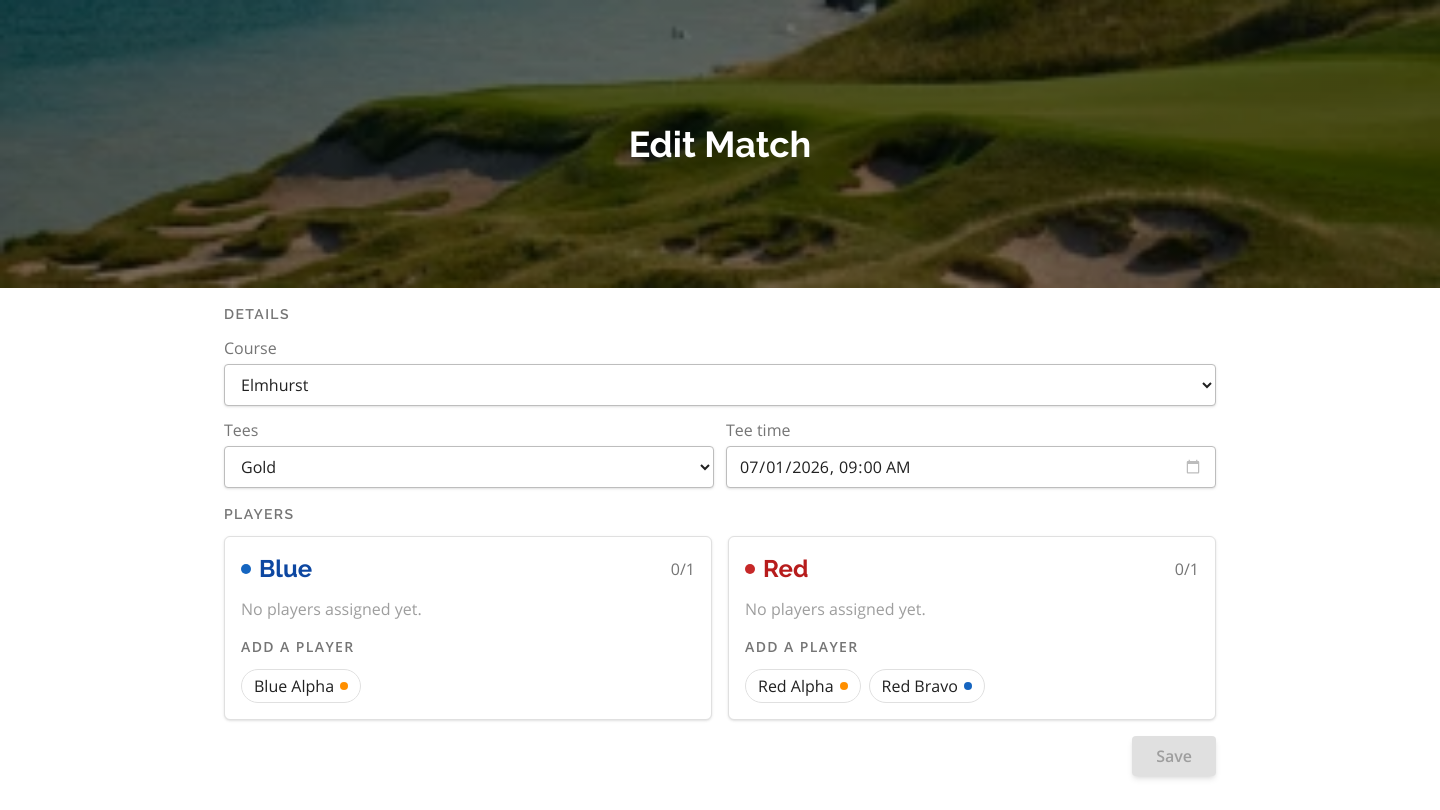
Scenario: AdminMatchLineupView › will not save around a course whose tees are unknown
The width and height of the screenshot is (1440, 810).
Replace the text in the field with id "tee-time" with "2026-07-01T09:30" at (971, 467), box [726,446,1216,488]
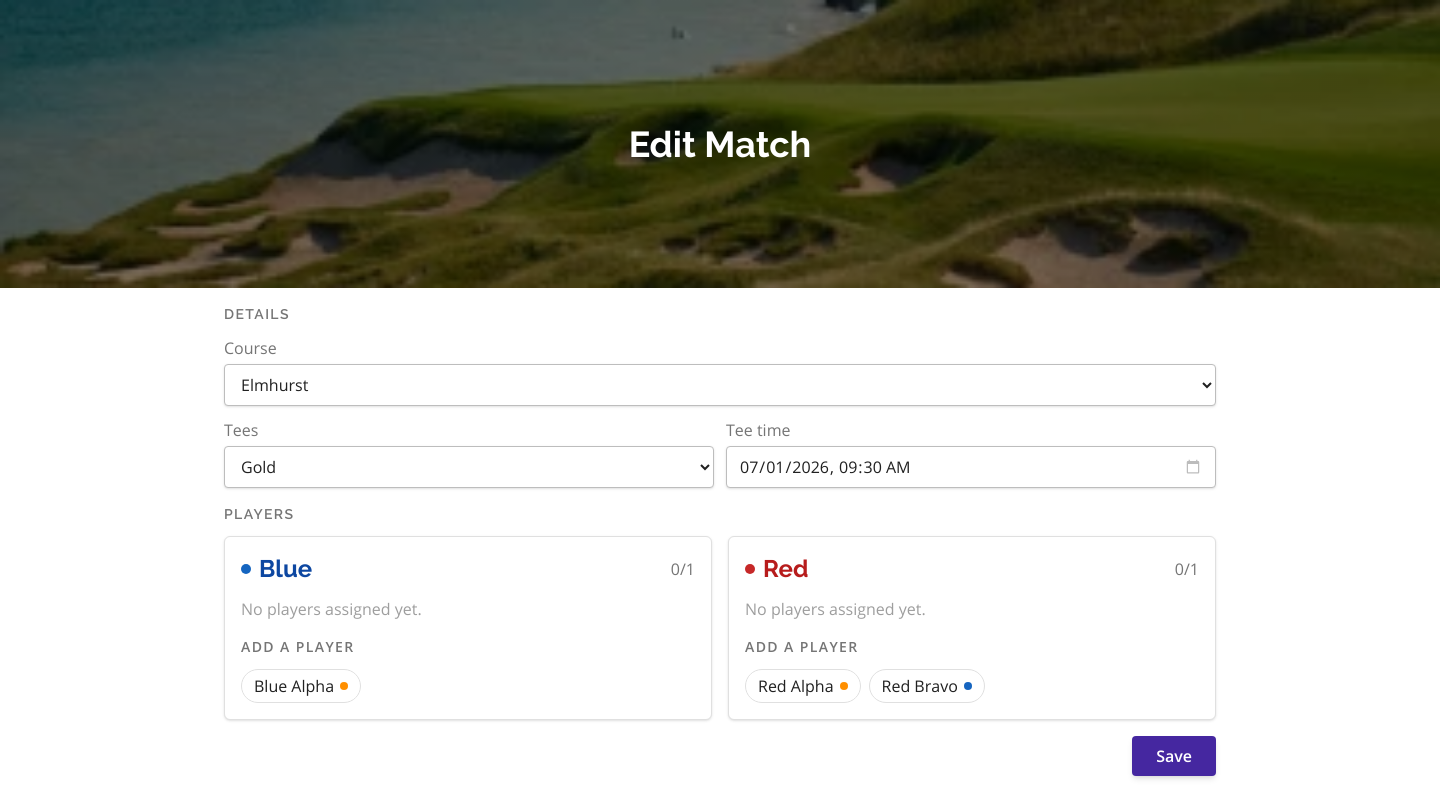
Select "Banff Springs" in the dropdown with id "course" at (720, 385), box [224,364,1216,406]
(page scrolled)
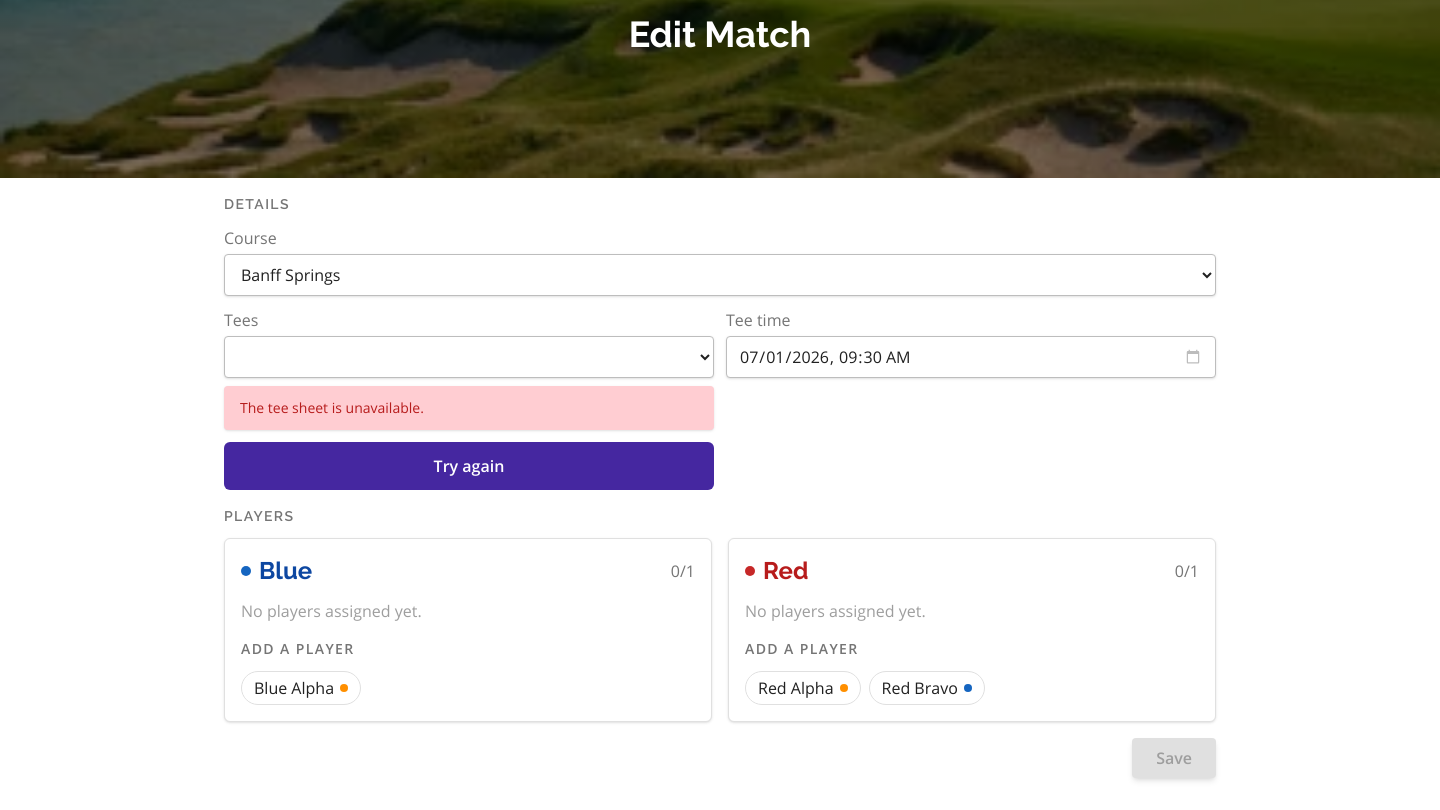
expect the text "The tee sheet is unavailable." is shown: met, box [224,386,714,430]
expect the button "Save" is disabled: met, box [1132,738,1216,778]
